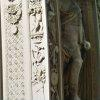Statue: (46, 4, 90, 85)
